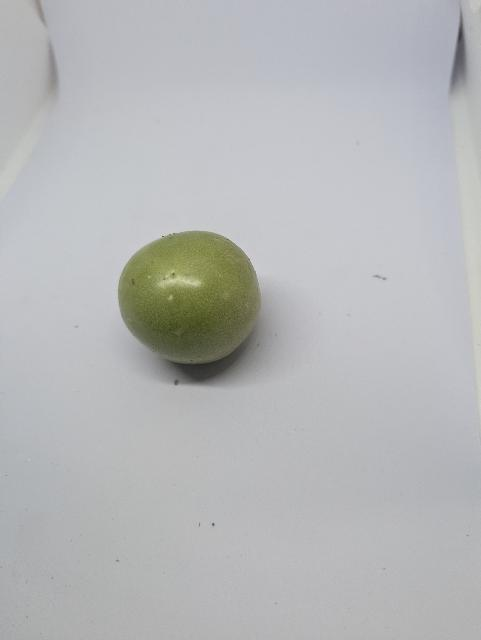green: (97, 213, 271, 370)
